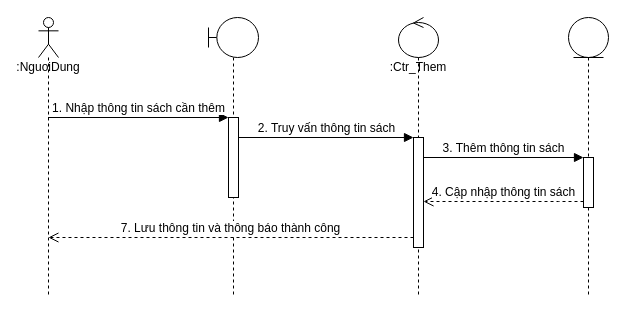
This 626x315 diagram has some shape labels left out. The shapes that lost their labels are listed below. From the top down, each one's box as (x1, y1, x2, y2) in pixels, then its label:
(208, 16, 258, 298): :Bd_Them
(568, 16, 608, 298): :Sach
